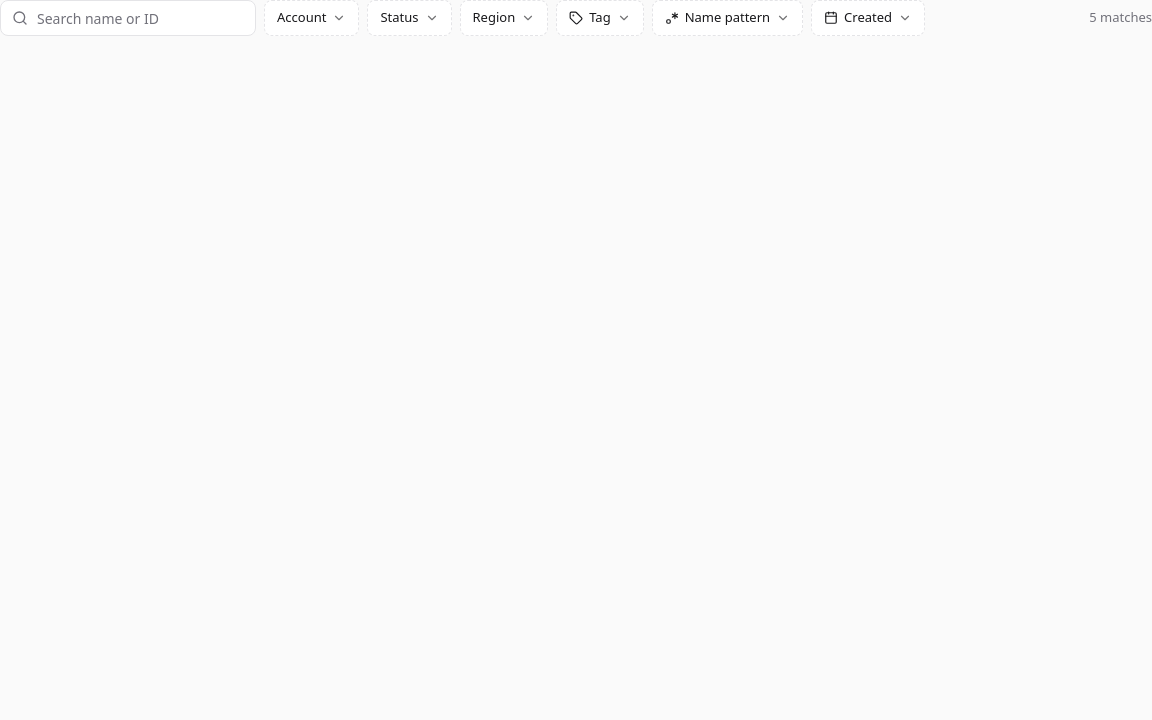
Scenario: FilterBar › shows an unnamed account's ID once
Click the button "Account". click: (312, 18)
box: [264,0,359,36]
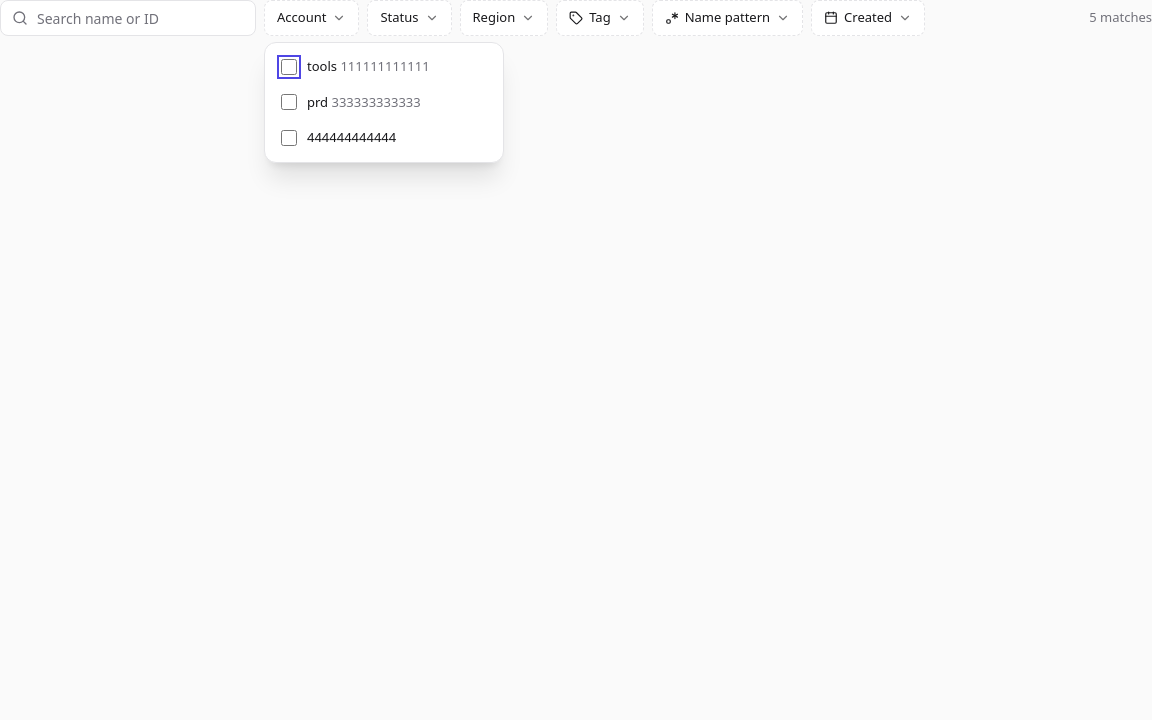
Now the text "444444444444" is shown once, box [307,128,396,146]
